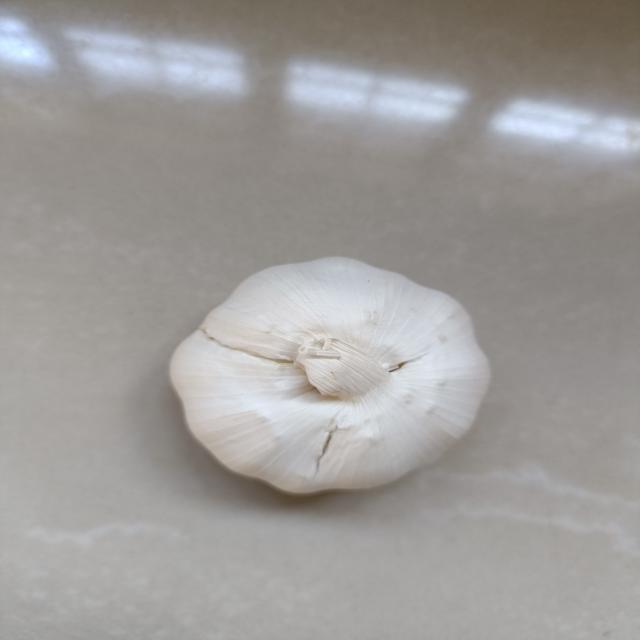garlic: (159, 249, 498, 503)
